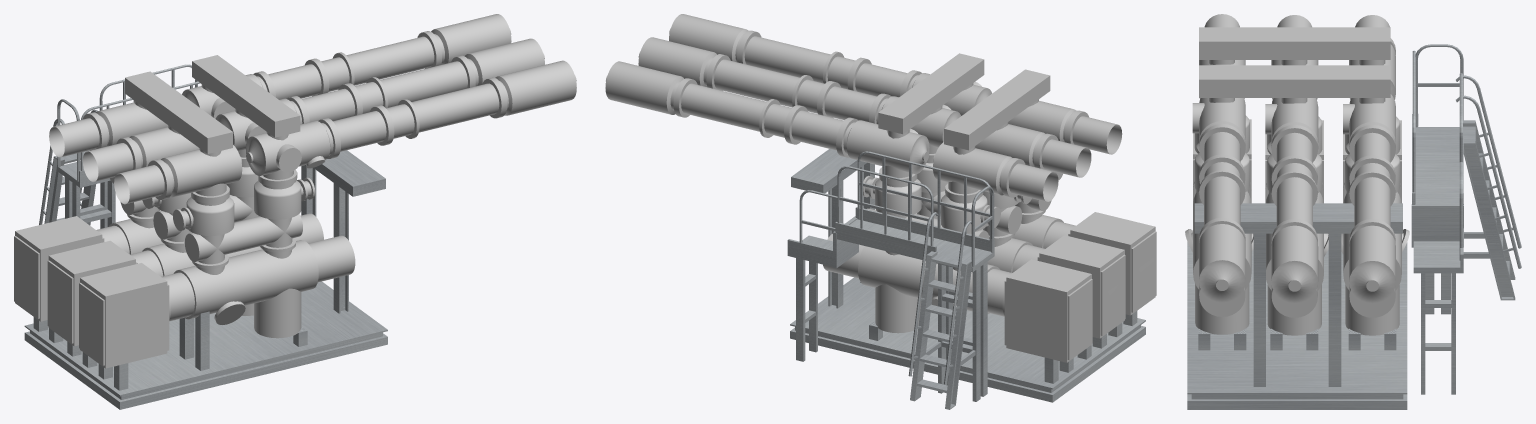
File: Machine004_1.FBX
3 views of the same model, side by side, from view 1: azimuth 30°, elevation 25°; view 2: azimuth 150°, elevation 25°; view 3: azimuth 270°, elevation 25° (orthographic). The views are drawn at different scales.
Visible parts, largest first — view 1: Machine004_1; view 2: Machine004_1; view 3: Machine004_1.
Boxes of the visible parts, <box> form: Machine004_1: <box>14,14,576,409</box>; Machine004_1: <box>605,14,1156,409</box>; Machine004_1: <box>1185,14,1521,409</box>.
Bounding box in the file's own units: 857 × 416 × 448.
